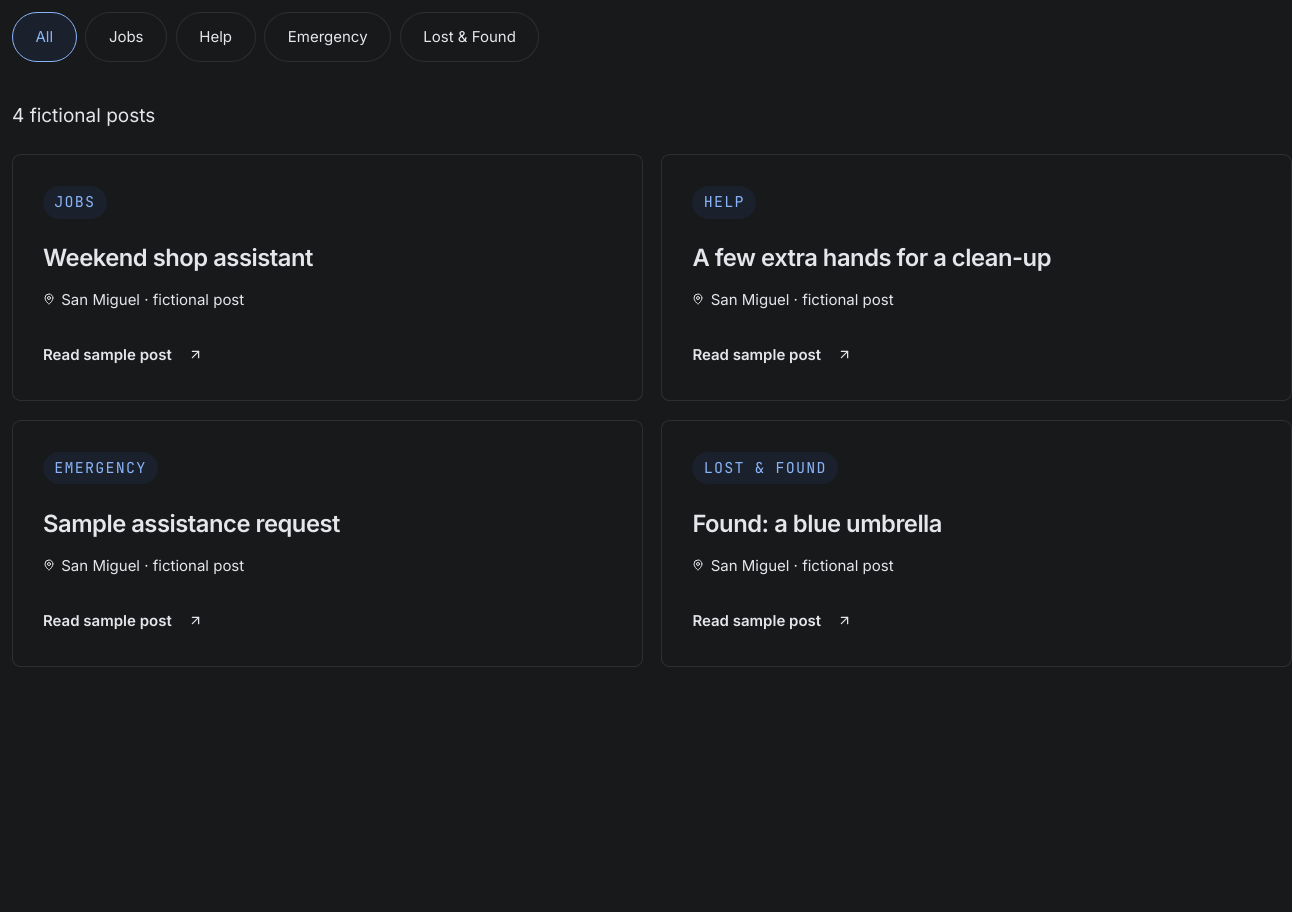
Scenario: fictional interactive demonstrations › filters fictional community posts
Step 1. Click the button "Jobs" → [126, 37], box [85,12,167,62]
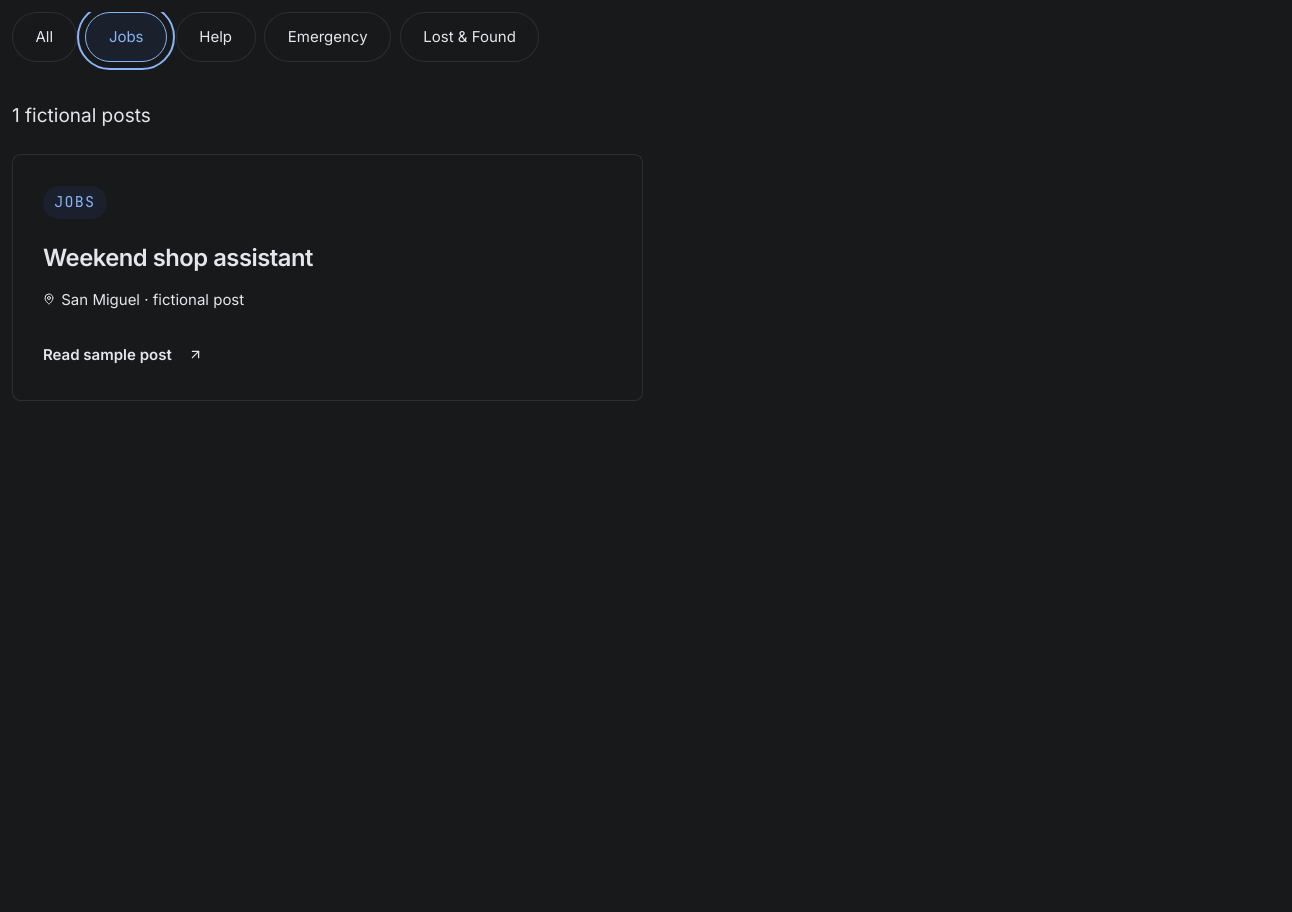
Expected: the heading "Weekend shop assistant" is shown, [43,243,313,272]
Expected: the heading "Found: a blue umbrella" is gone
Step 2. Click the button "Read sample post" → [123, 355], box [43,342,203,368]
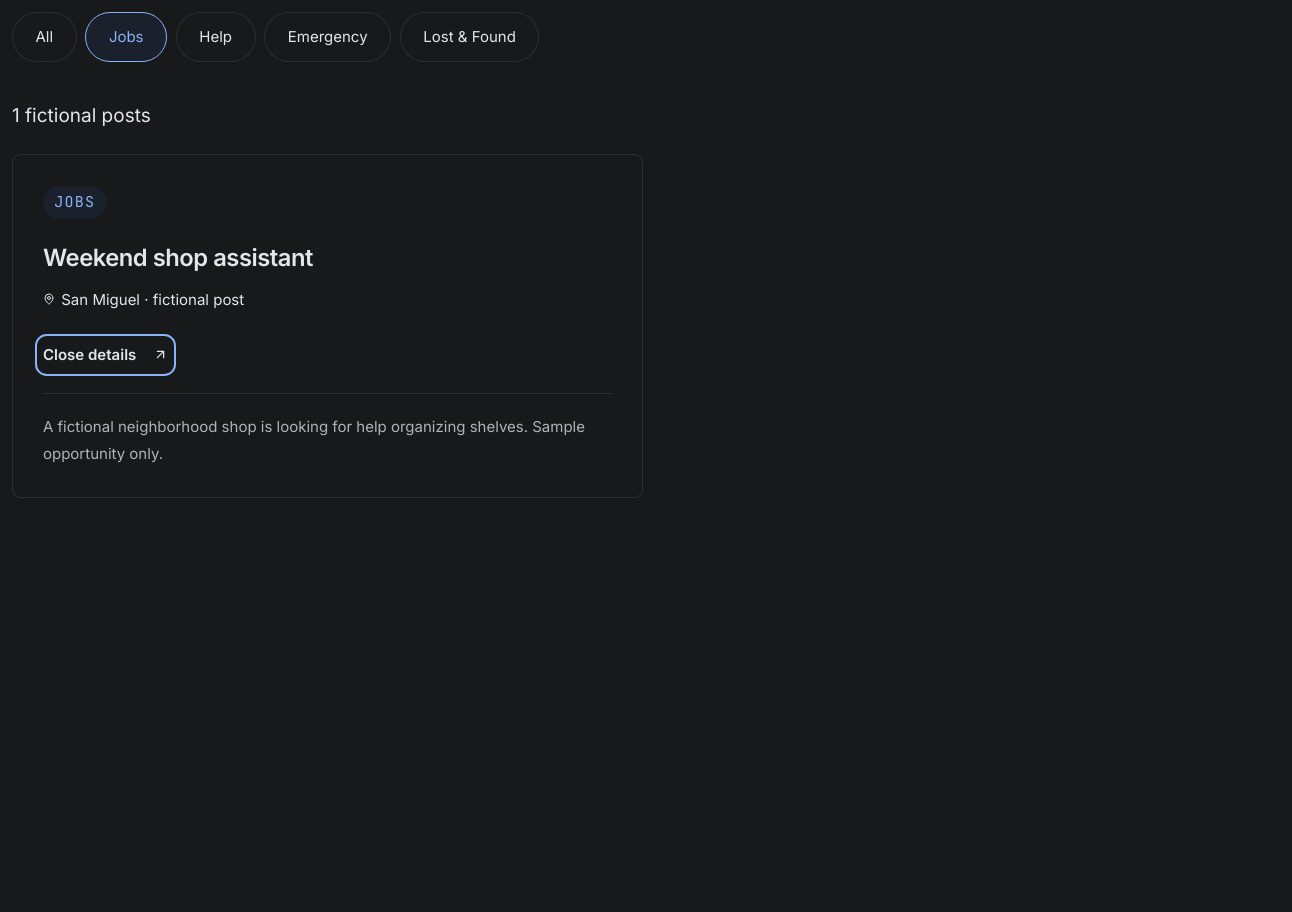
Expected: the text "fictional neighborhood shop" is shown, [43,417,585,463]
